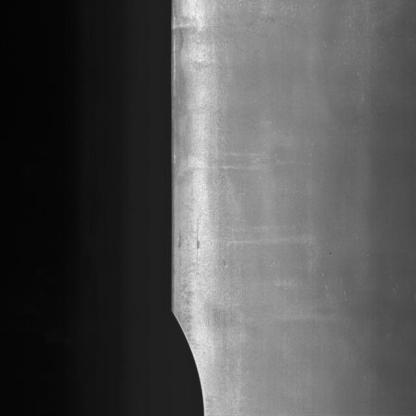crescent_gap: (162, 305, 207, 415)
